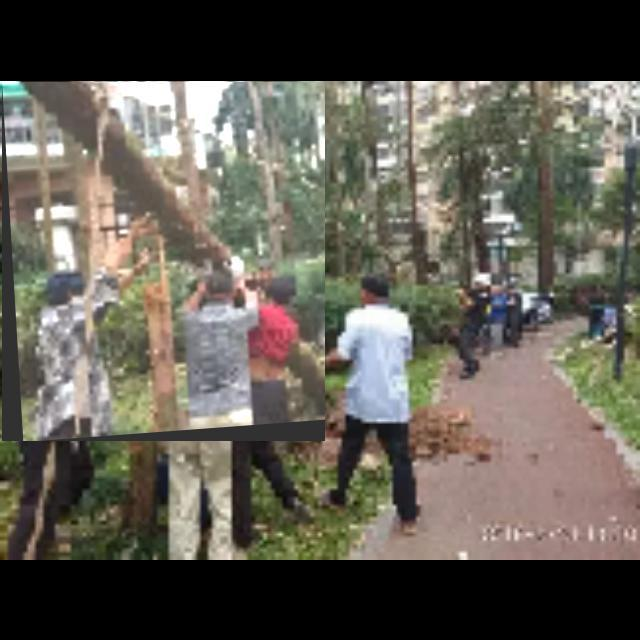fallen_tree: (2, 82, 326, 442)
